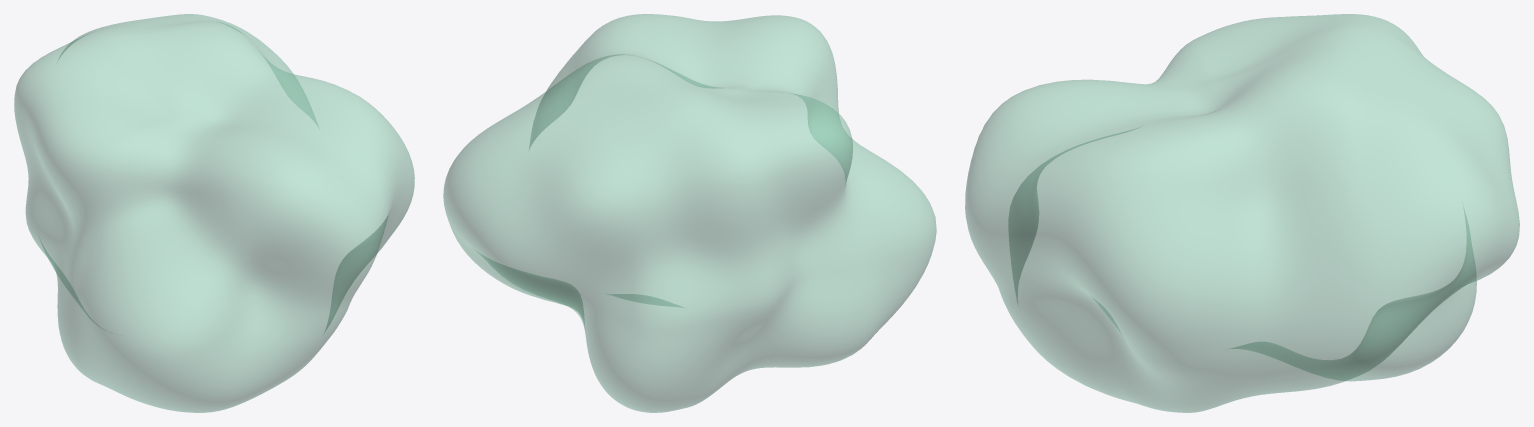
The model's file is clearblob20.gltf.
3 renders of one model, left to right at view 1: azimuth 30°, elevation 25°; view 2: azimuth 150°, elevation 25°; view 3: azimuth 270°, elevation 25°, orthographic. The views are drawn at different scales.
Visible parts, largest first — view 1: Sphere; view 2: Sphere; view 3: Sphere.
Part boxes in pixels (box(x1,y1,x2,y2)): Sphere: box(14, 14, 414, 412); Sphere: box(443, 14, 936, 412); Sphere: box(965, 14, 1519, 412).
Bounding box in the file's own units: 888 × 750 × 1100.
